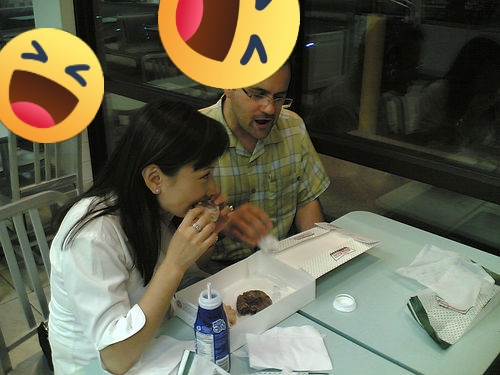haha: (158, 0, 300, 89), (0, 28, 104, 143)
